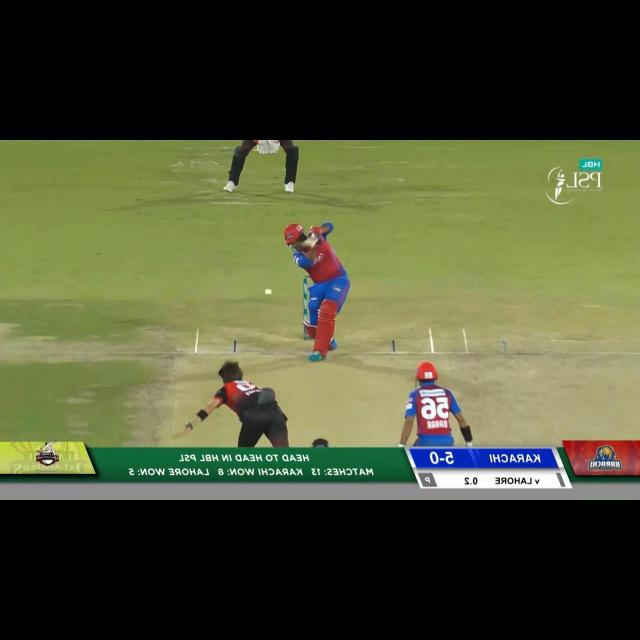bat: (302, 234, 320, 250)
toe: (301, 242, 313, 248)
